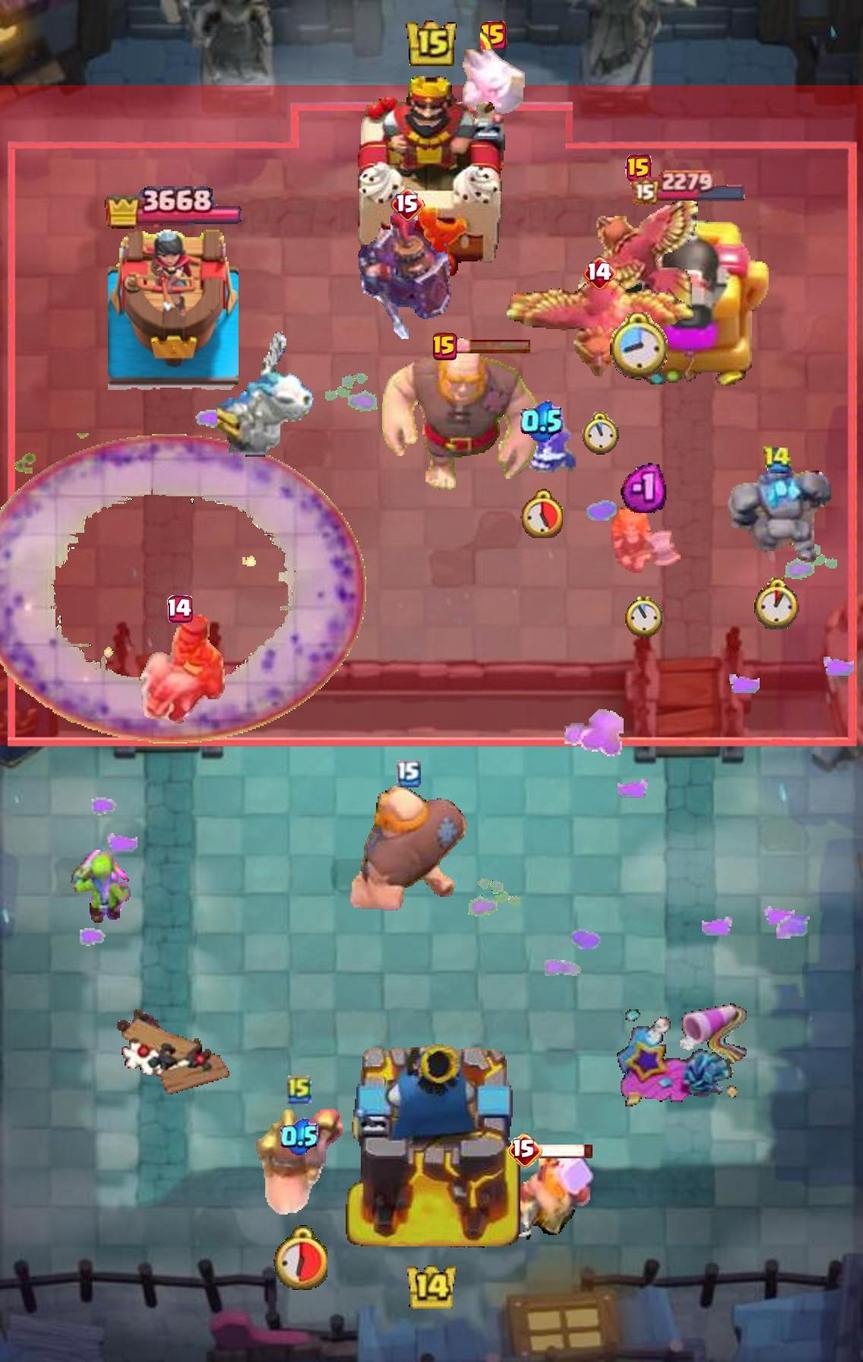bar: (454, 337, 533, 354), (539, 1142, 595, 1159)
bar-level: (390, 187, 425, 222), (507, 1133, 542, 1168), (583, 255, 617, 289), (480, 20, 507, 50), (167, 595, 193, 624), (625, 155, 651, 183), (433, 333, 457, 361)
